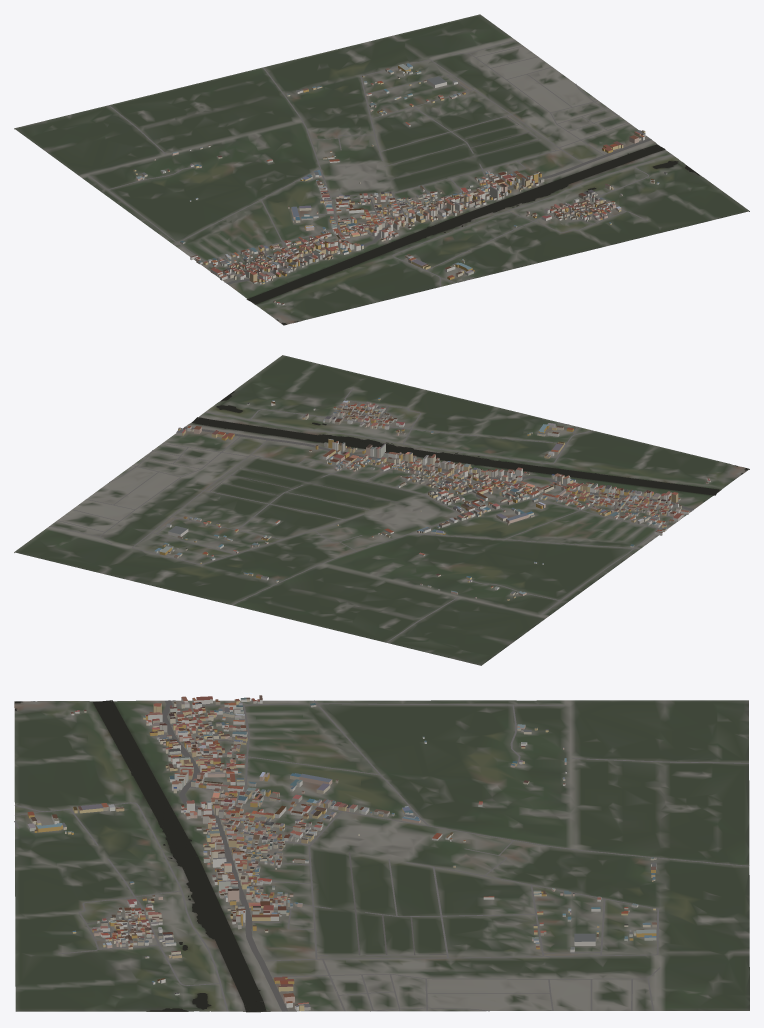
The picture shows the model from 3 angles, top to bottom: view 1: azimuth 30°, elevation 25°; view 2: azimuth 150°, elevation 25°; view 3: azimuth 270°, elevation 25°; orthographic projection. The views are drawn at different scales.
Parts seen in each view (by area): view 1: ground, buildings, roads, water; view 2: ground, buildings, roads, water; view 3: ground, buildings, roads, water.
Boxes of the visible parts, x1,y1,x2,y2 form: ground: (14,14,749,325); buildings: (133,63,667,305); roads: (88,40,671,286); water: (246,144,699,324); ground: (14,355,749,665); buildings: (154,398,710,600); roads: (49,387,694,642); water: (192,391,748,495); ground: (14,700,749,1012); buildings: (27,695,656,1011); roads: (14,700,749,1011); water: (15,700,266,1012).
Size of the model in its own units: 1413 by 30.57 by 1405.
